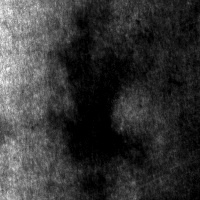patches: (60, 6, 139, 162)
